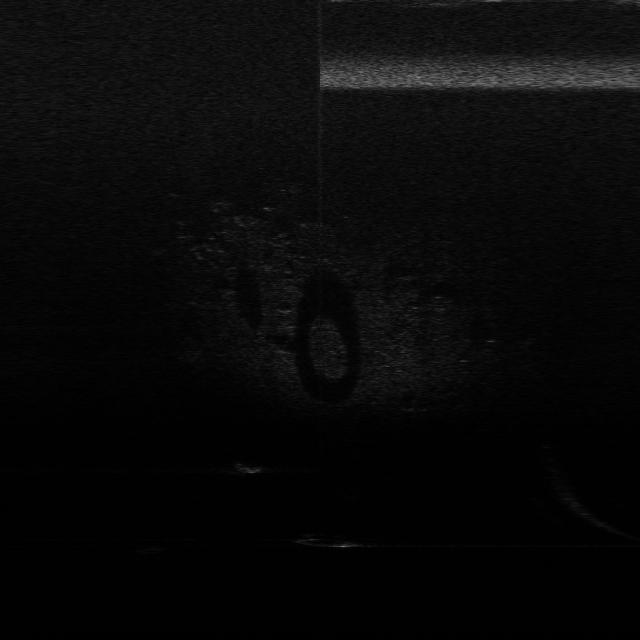square cage: (230, 459, 268, 476)
tyre: (293, 530, 366, 550)
